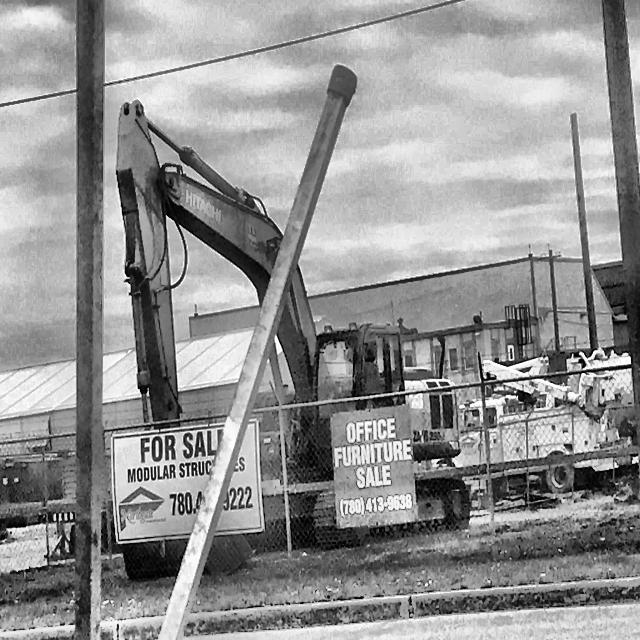excavator: (107, 105, 480, 550)
